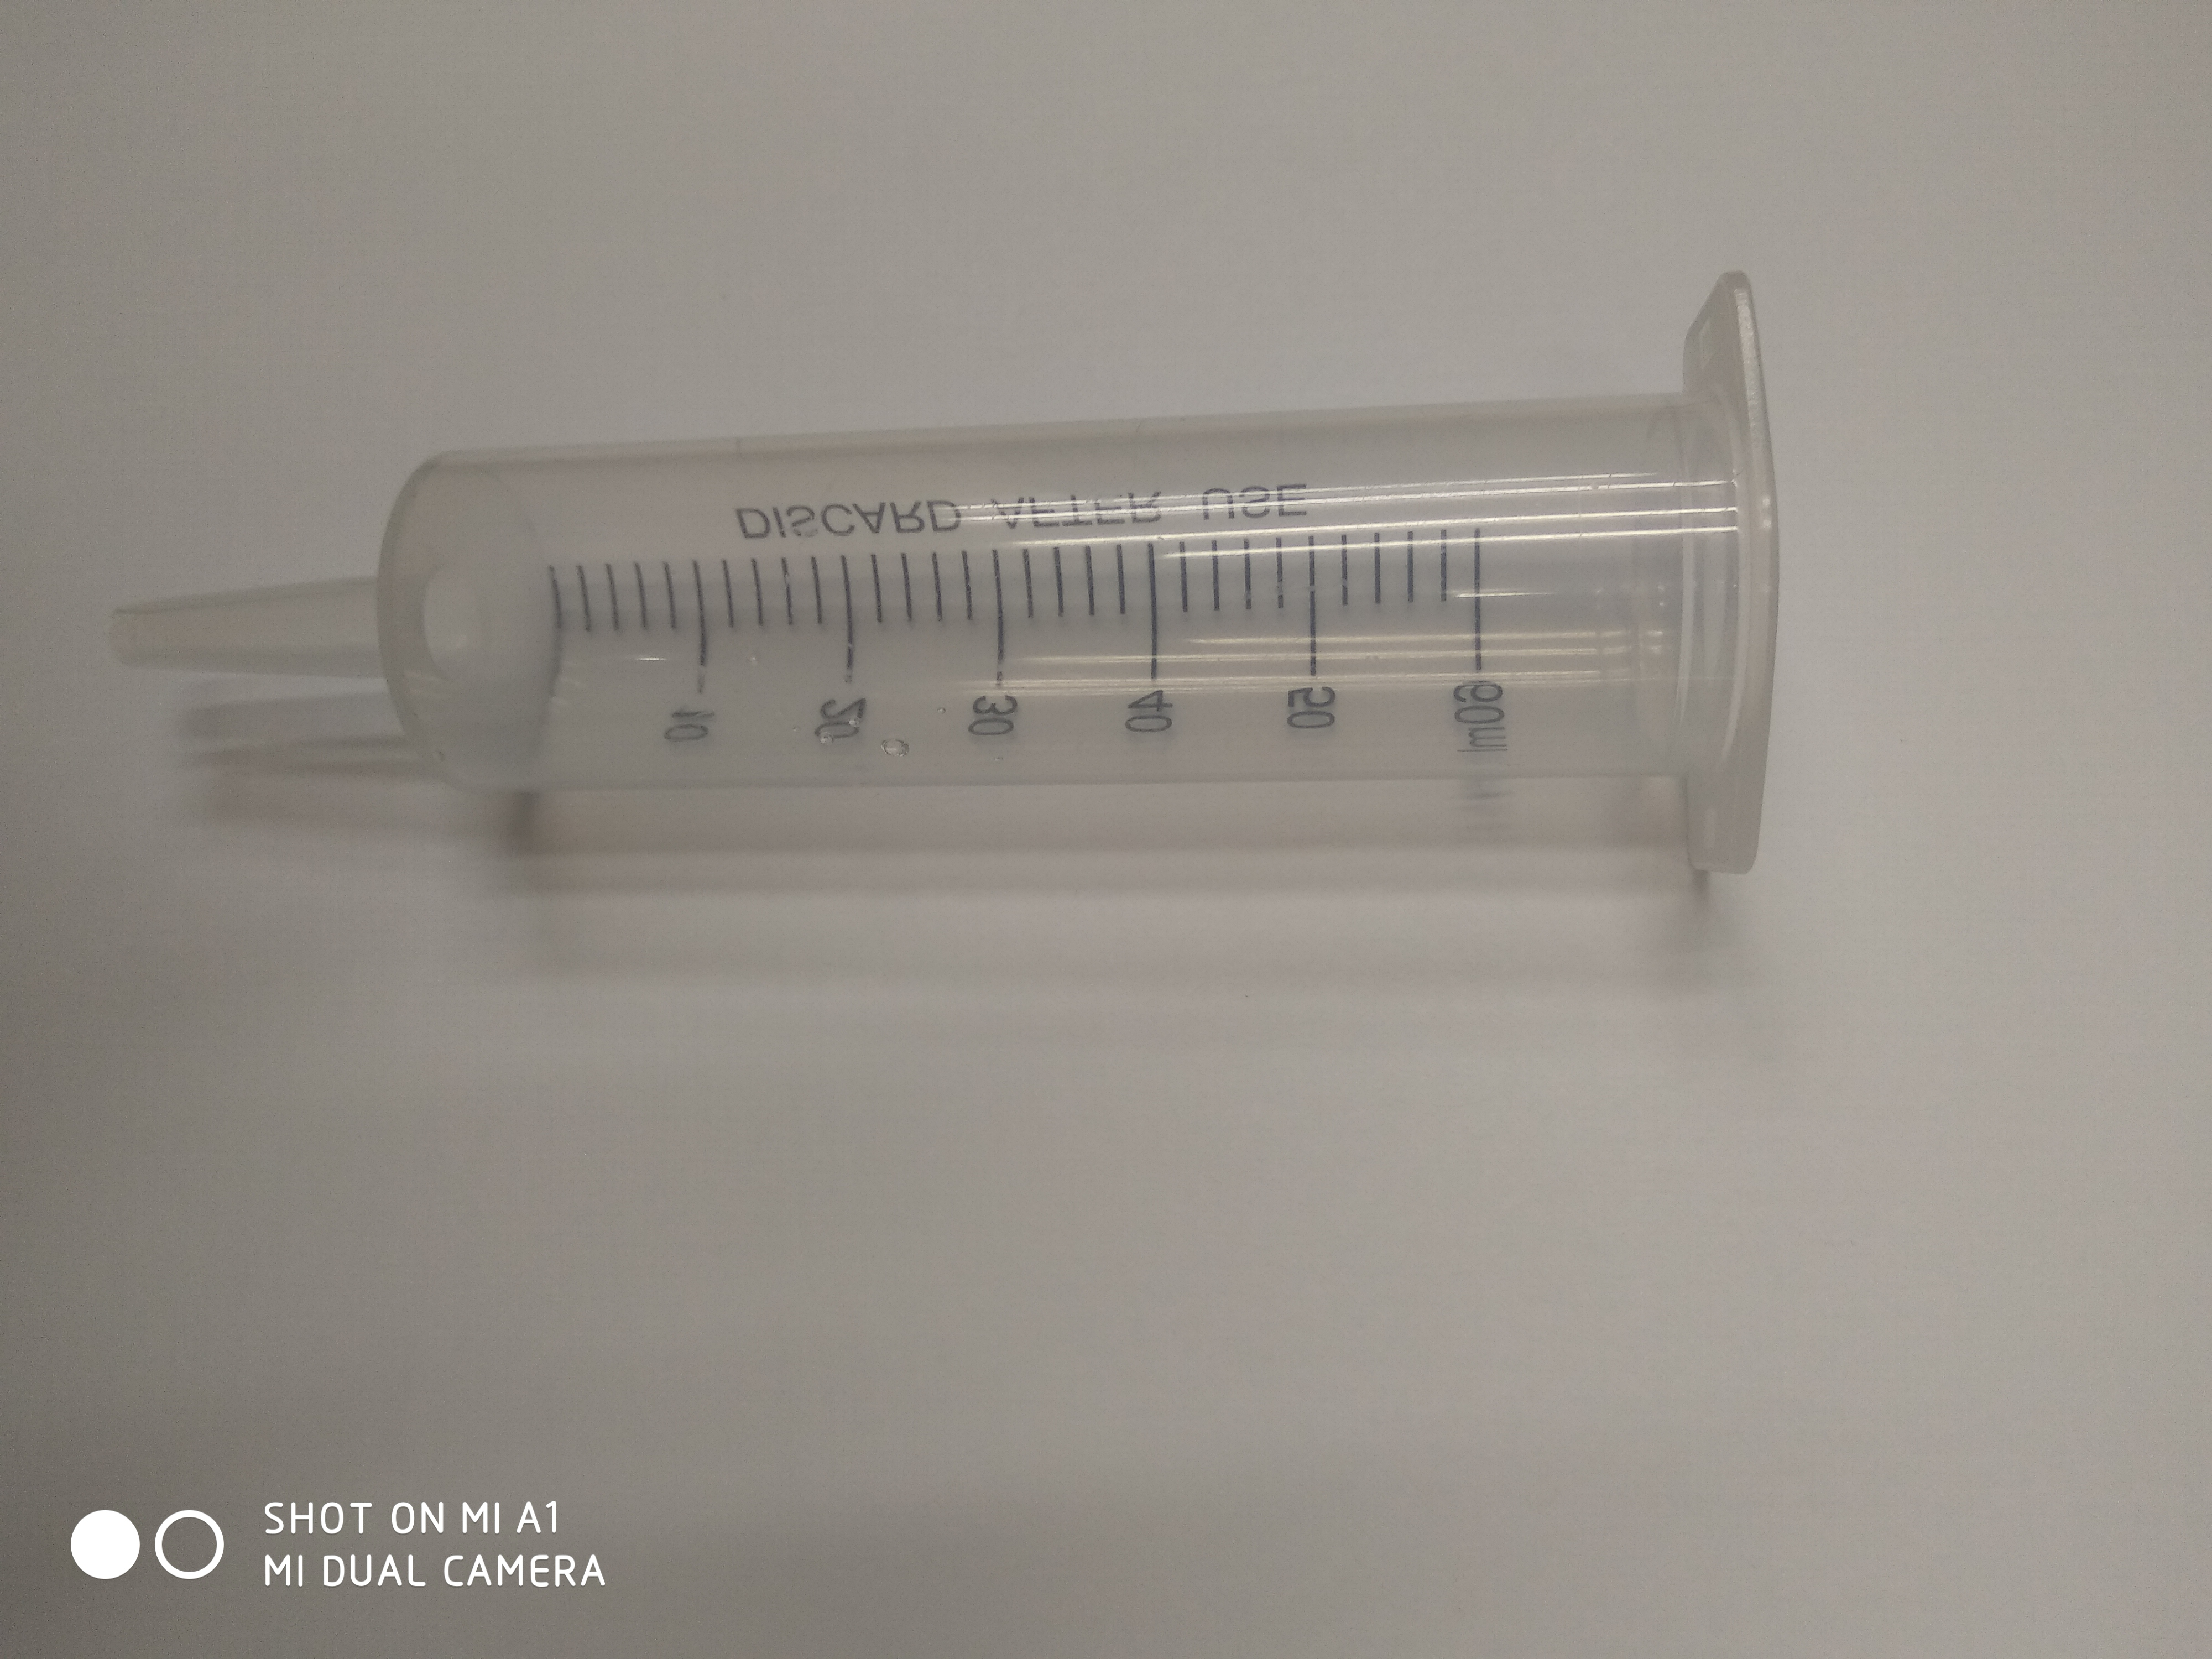syringe: (94, 265, 1794, 878)
